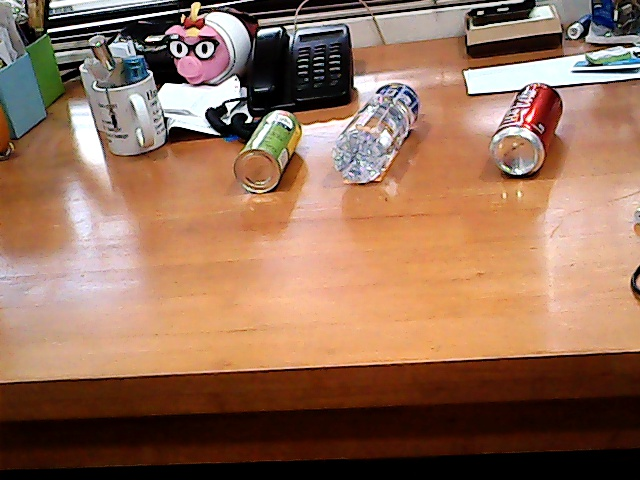Cola: (474, 59, 575, 197)
Pine Juice: (223, 95, 316, 204)
Summit Water: (323, 69, 431, 193)
